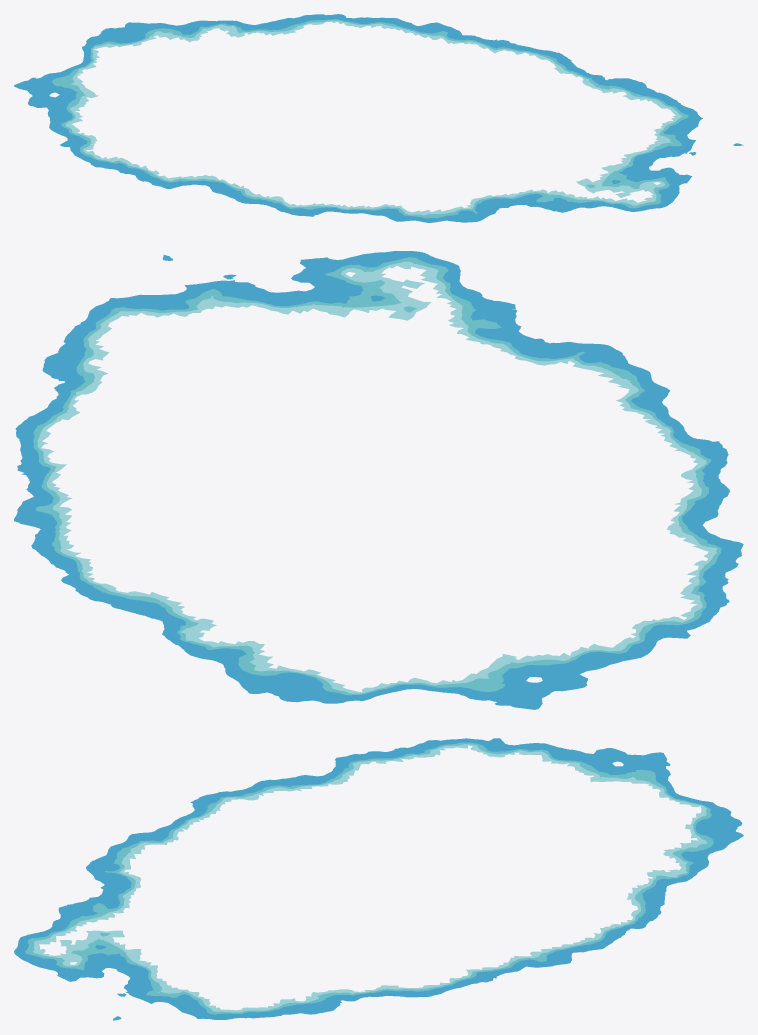
The model's file is Isl-hilly3-Water.fbx.
3 views of the same model, one above another, from view 1: azimuth 30°, elevation 25°; view 2: azimuth 150°, elevation 25°; view 3: azimuth 270°, elevation 25° (orthographic). The views are drawn at different scales.
Parts seen in each view (by area): view 1: Isl-hilly3-Water; view 2: Isl-hilly3-Water; view 3: Isl-hilly3-Water.
Part boxes in pixels (box(x1,y1,x2,y2)): Isl-hilly3-Water: box(14, 14, 743, 222); Isl-hilly3-Water: box(14, 251, 743, 709); Isl-hilly3-Water: box(14, 738, 743, 1020).
Bounding box in the file's own units: 125 × 0 × 137.
